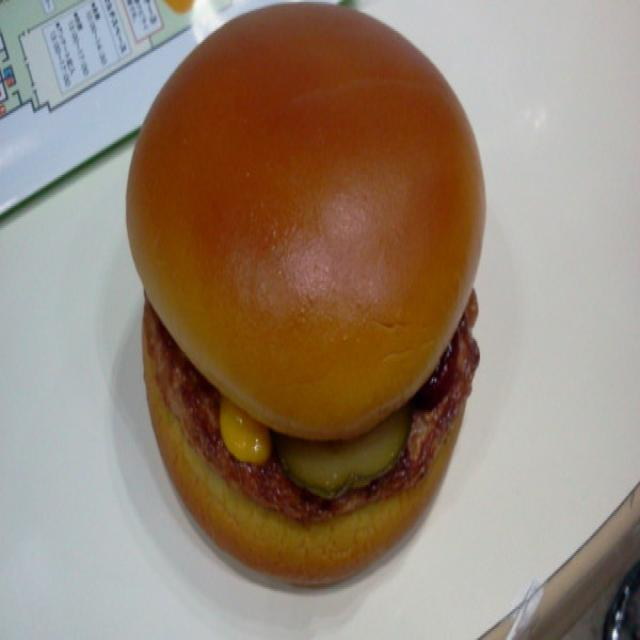Hamburger: (116, 0, 493, 600)
